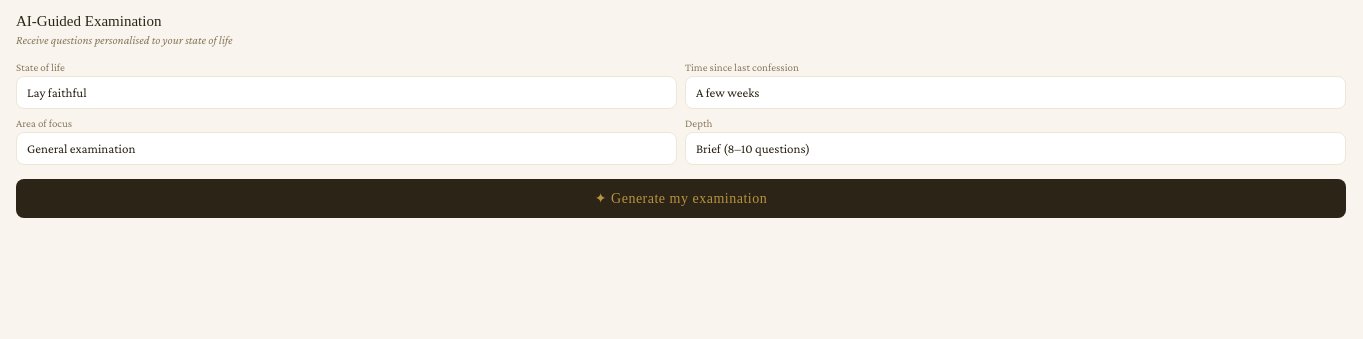
Test case: AIExaminationScreen — results › displays categories and questions after generation
The width and height of the screenshot is (1363, 339).
Click the button "✦ Generate my examination" at point(681, 198), box top-left (16, 179), bottom-right (1346, 218)
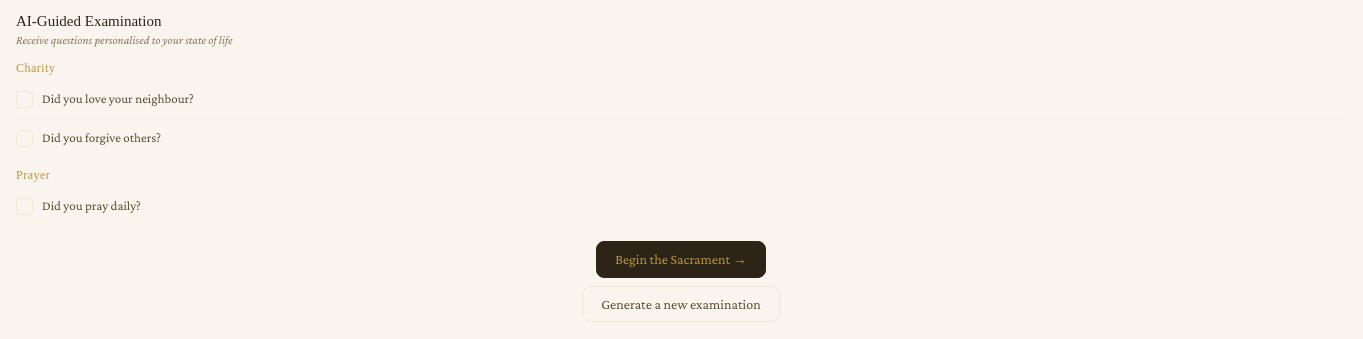
Check: the text "Charity" is shown, box top-left (16, 61), bottom-right (56, 75)
Check: the text "Did you love your neighbour?" is shown, box top-left (42, 89), bottom-right (194, 108)
Check: the text "Prayer" is shown, box top-left (16, 168), bottom-right (50, 182)
